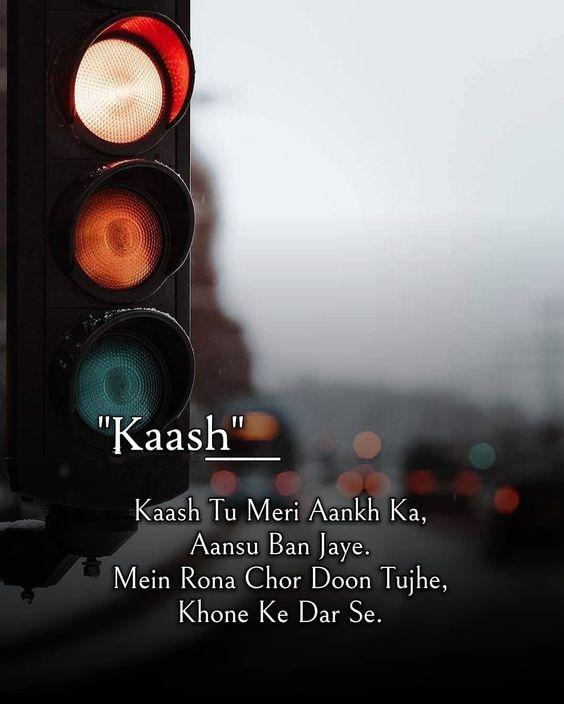red: (20, 0, 210, 398)
